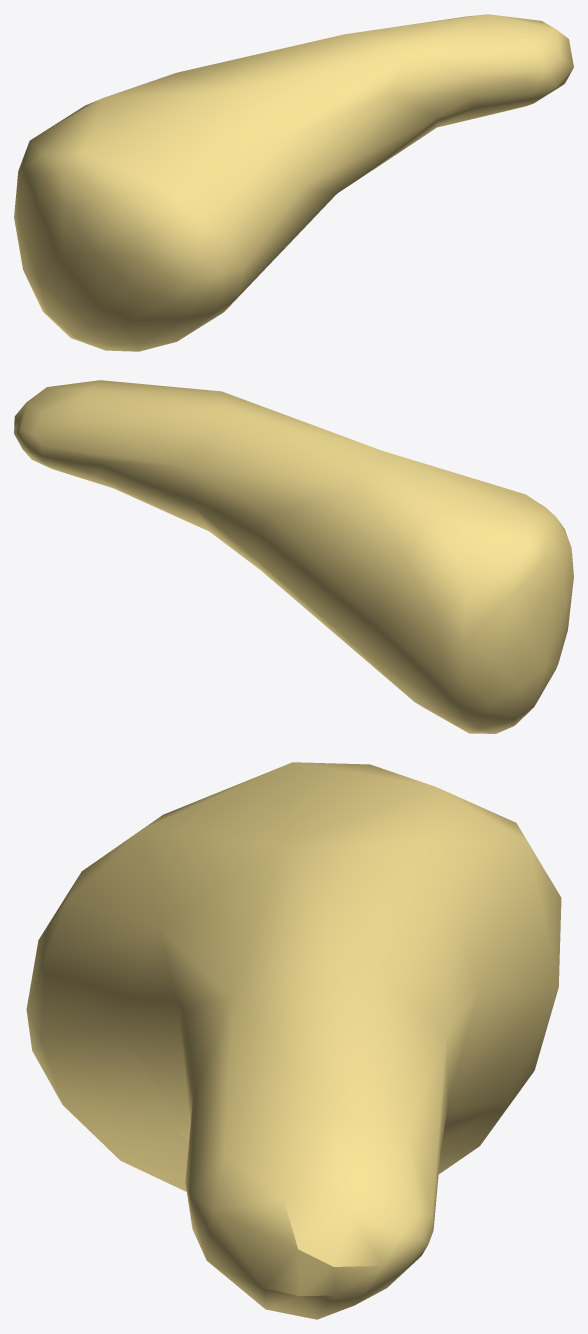
Rendered from fma73461_fj1736.glb.
The picture shows the model from 3 angles, top to bottom: view 1: azimuth 30°, elevation 25°; view 2: azimuth 150°, elevation 25°; view 3: azimuth 270°, elevation 25°; orthographic projection. The views are drawn at different scales.
Visible parts, largest first — view 1: FMA73461_FJ1736; view 2: FMA73461_FJ1736; view 3: FMA73461_FJ1736.
Boxes of the visible parts, x1,y1,x2,y2 form: FMA73461_FJ1736: (14,14,573,351); FMA73461_FJ1736: (14,380,573,733); FMA73461_FJ1736: (26,762,561,1319).
Bounding box in the file's own units: 0.015 × 0.00675 × 0.00664.
